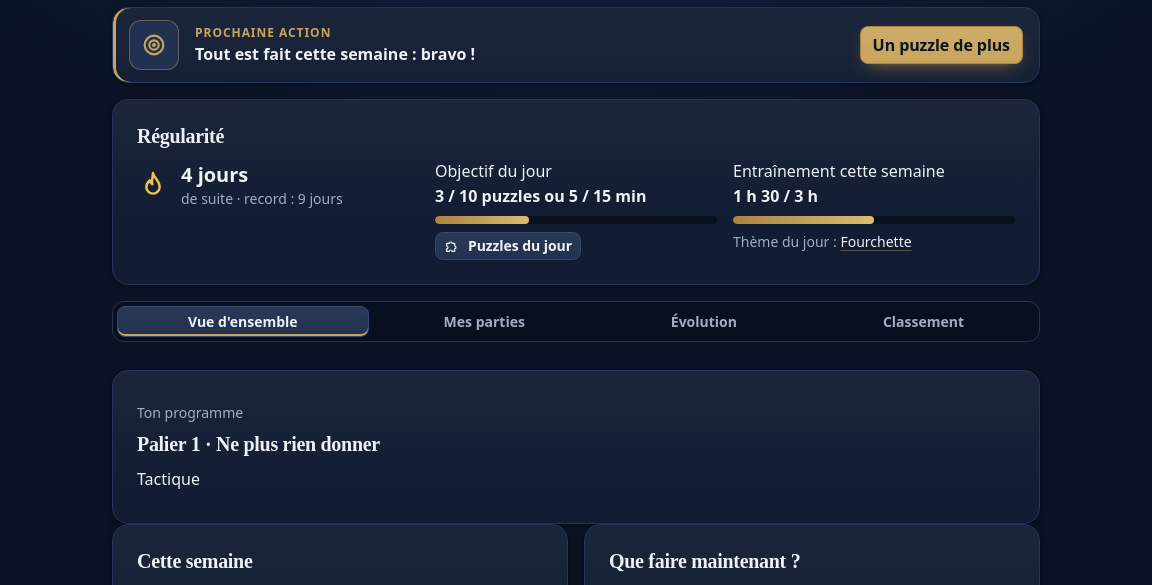
Test case: Coach : profil (lot 4d) › sans pendule : pas de répartition
Click the tab with test id "progress-tab-games". click: point(484, 322)
box: [373,306,596,337]
(page scrolled)
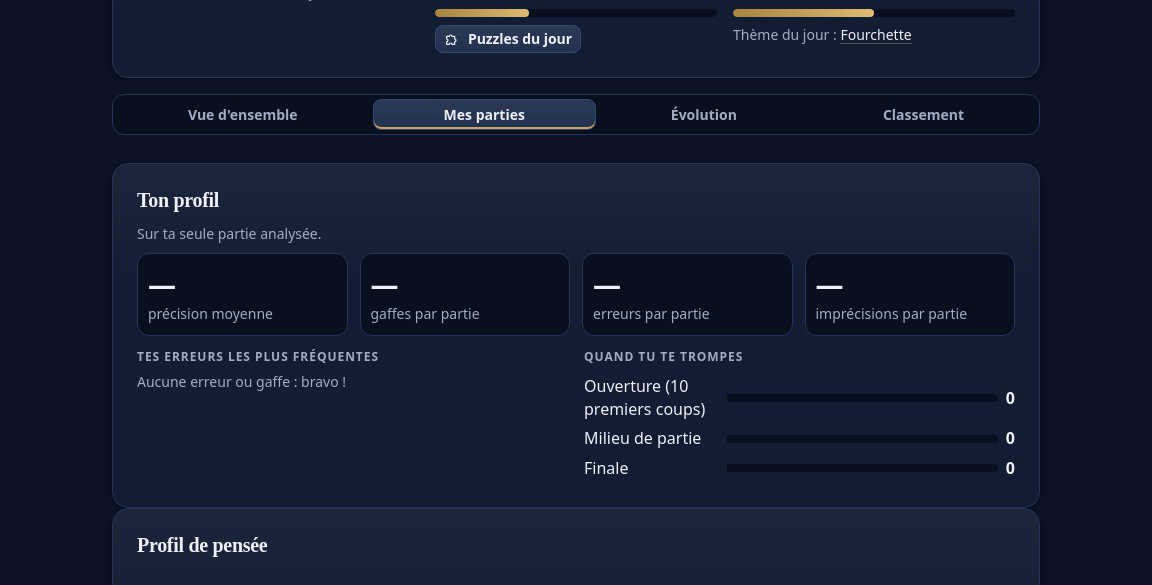
Expected: the element with test id "coach-weaknesses" is shown, [112,163,1040,508]
